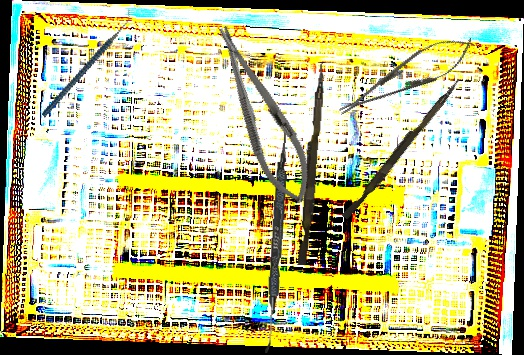Chopper: (17, 7, 156, 119)
Needle Holder: (201, 17, 324, 212), (331, 25, 481, 128)
Pusher: (341, 73, 463, 223), (297, 62, 326, 266)
Spatula Surgical: (264, 123, 290, 354)
